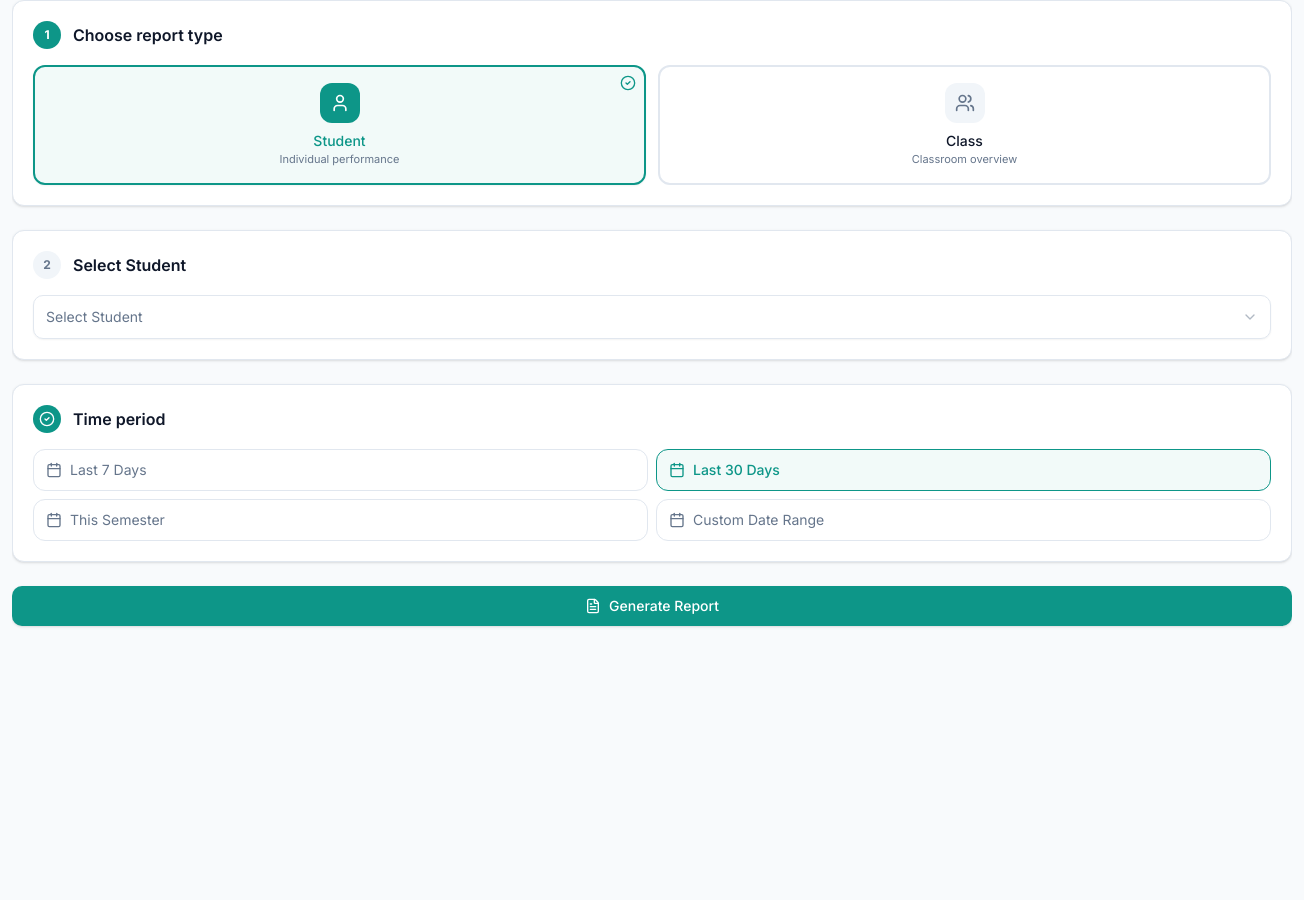
ReportBuilder › switches to class selector when Class report type is selected
This screenshot has width=1304, height=900.
Click the button "Class Classroom overview" at (964, 125), box [658,65,1271,185]
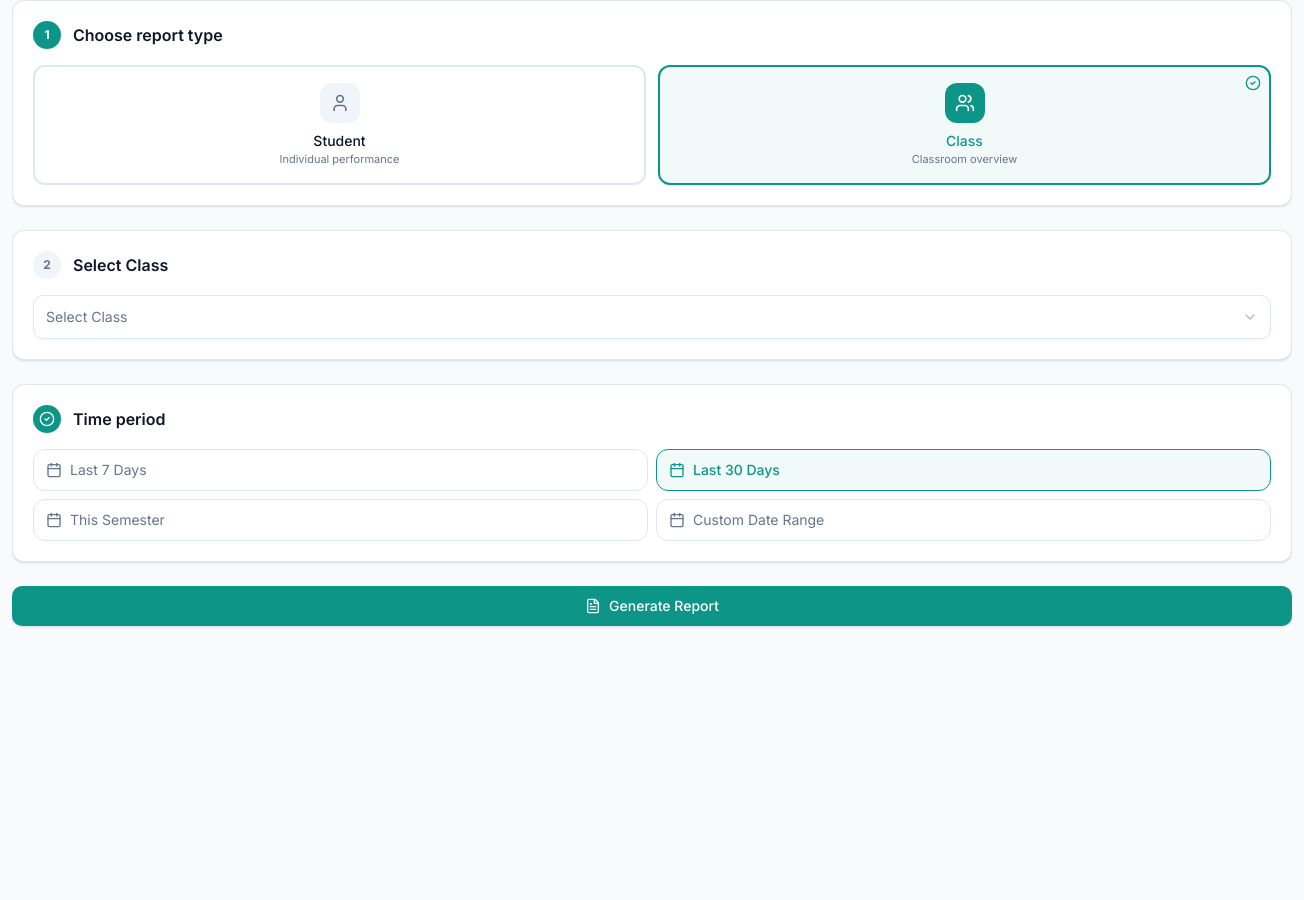
Result: the heading "Select Class" is shown at [73,253,168,277]
